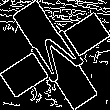M_SE: (22, 22, 88, 88)
